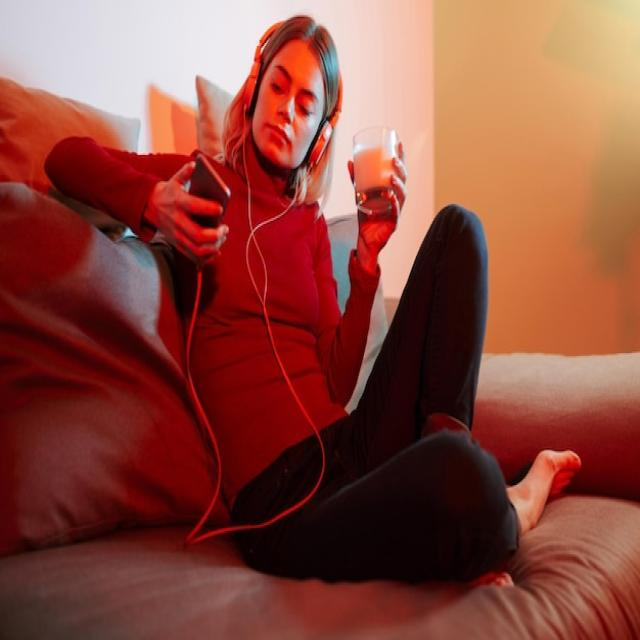Headphone: (241, 18, 343, 171)
